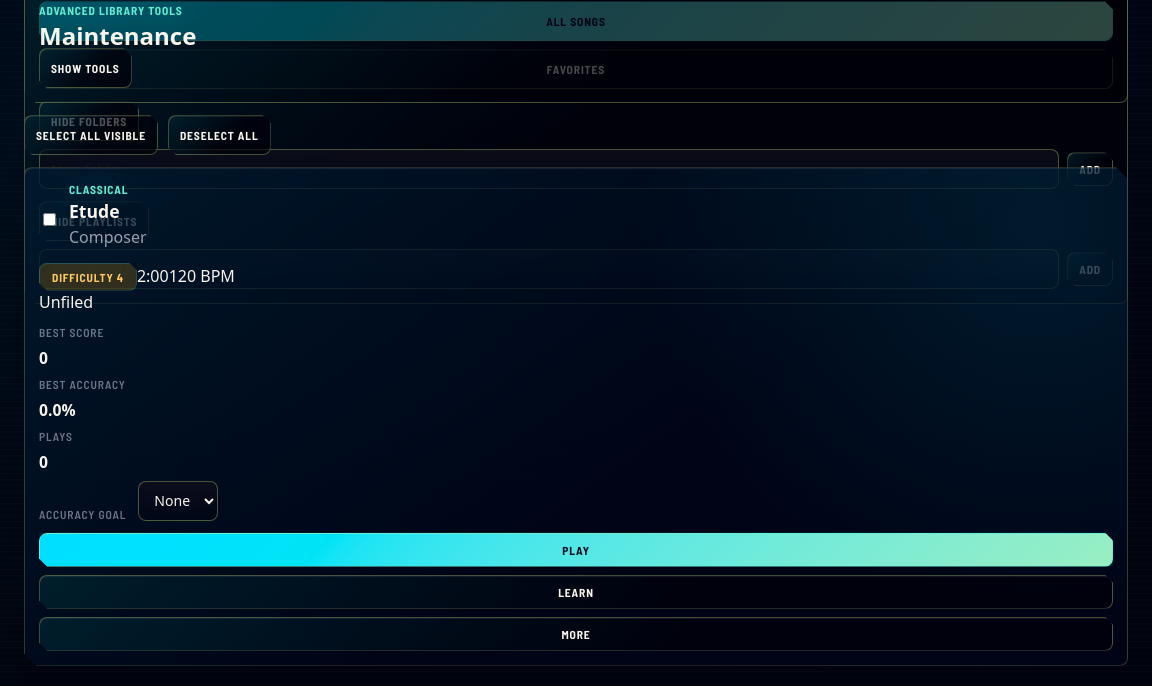
Test case: LibraryScreen › reattaches MIDI for the selected song through the bridge
(page scrolled)
Click the button "More" at (576, 634), box x1=39 y1=616 x2=1113 y2=650
(page scrolled)
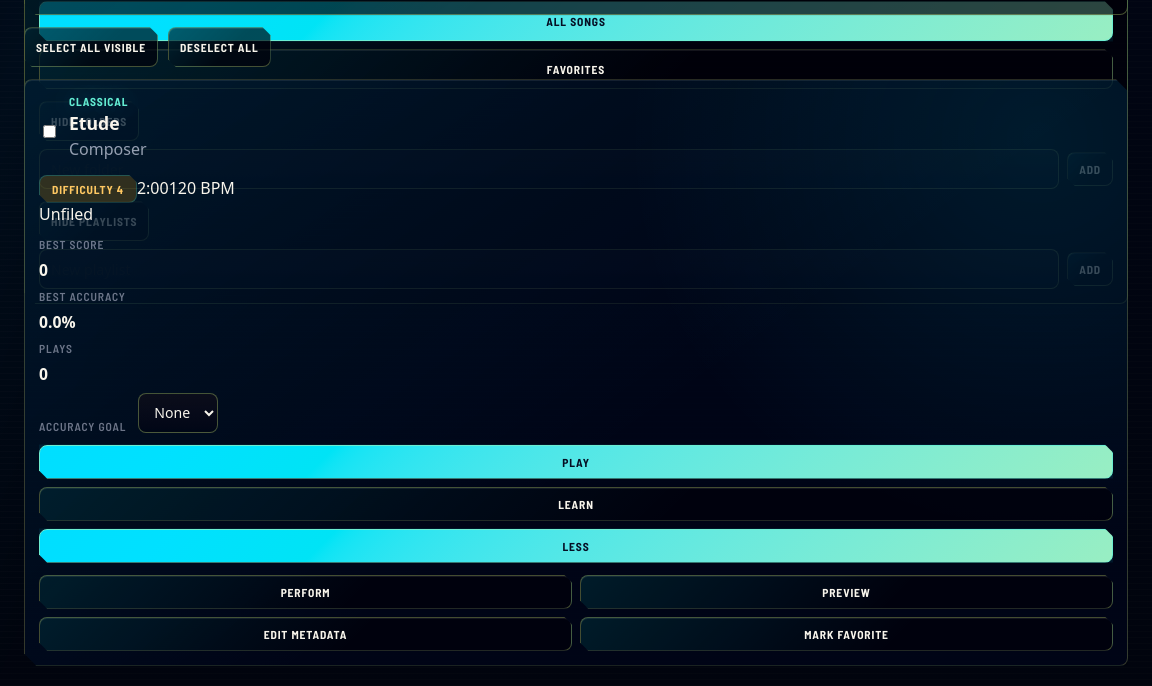
Click the button "Edit Metadata" at (306, 634), box x1=39 y1=616 x2=572 y2=650
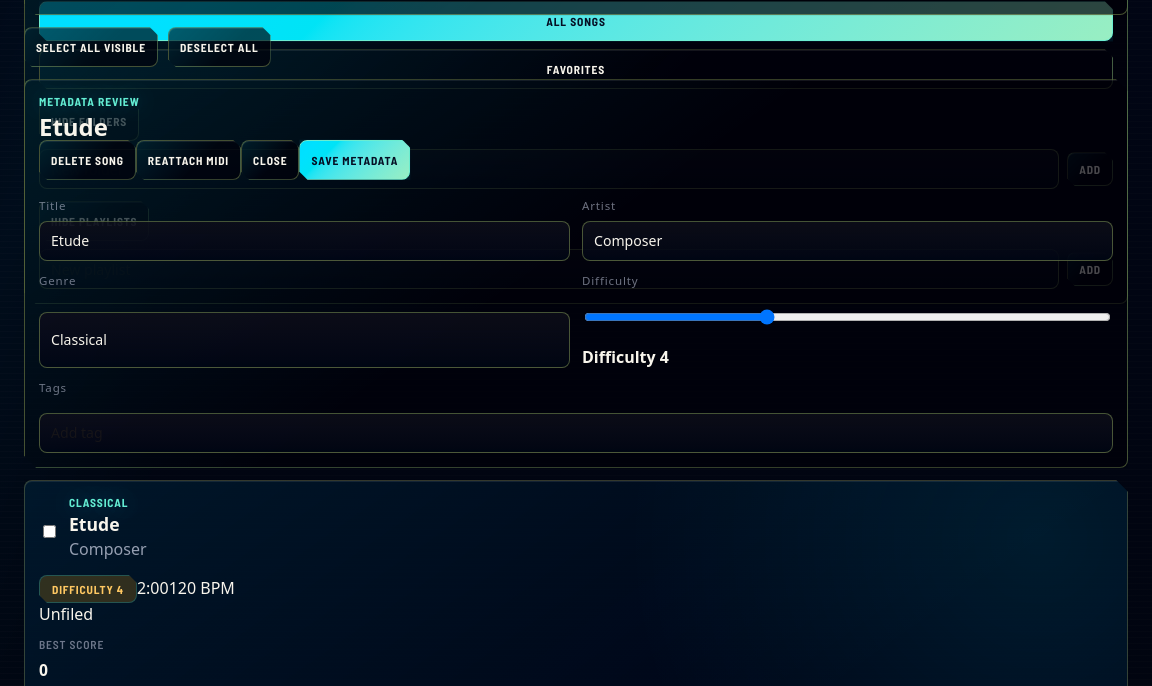
Click the button "Reattach MIDI" at (188, 160), box x1=136 y1=140 x2=241 y2=180
(page scrolled)
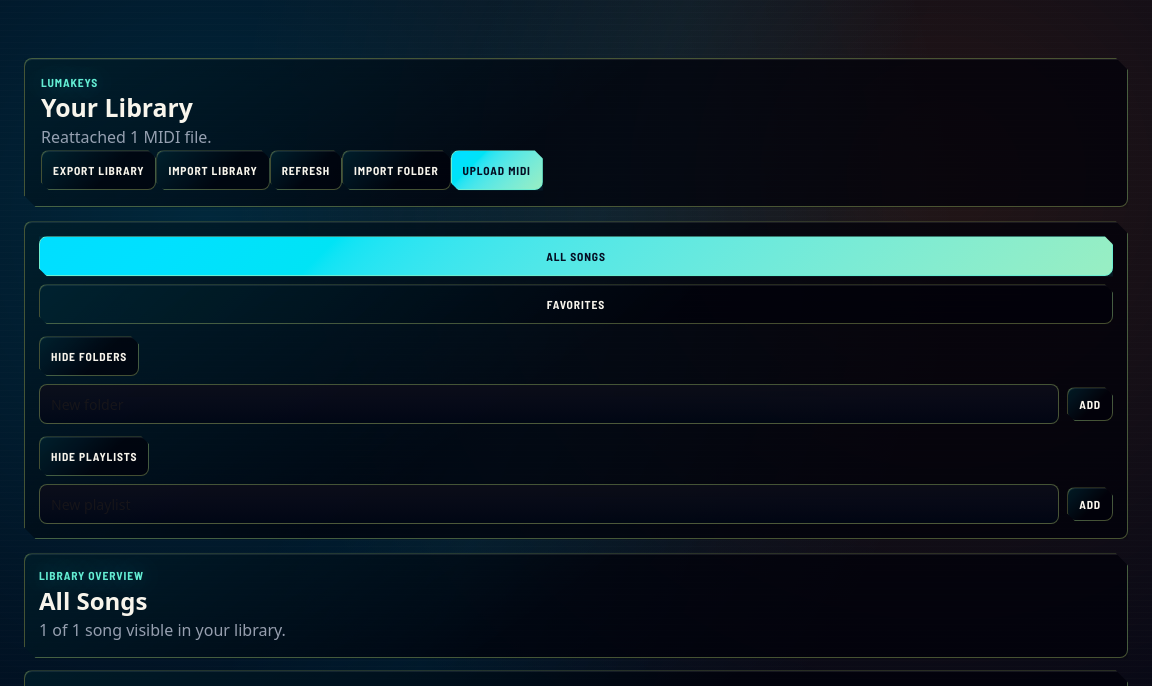
Result: the text "Reattached 1 MIDI file." is shown at x1=41 y1=126 x2=212 y2=148
